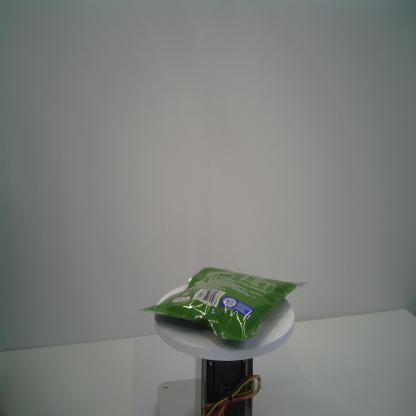Dried Fruit: (134, 263, 309, 343)
